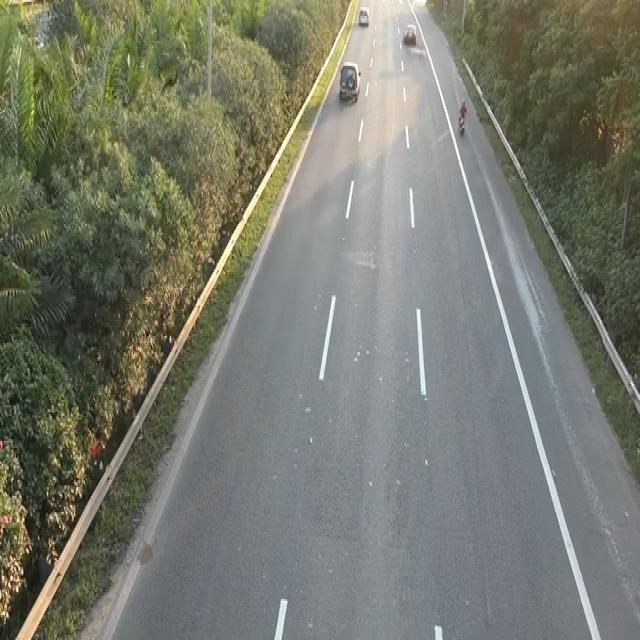bus: (402, 22, 417, 46), (357, 7, 369, 27)
car: (336, 57, 364, 108)
minibus: (457, 109, 467, 135)
